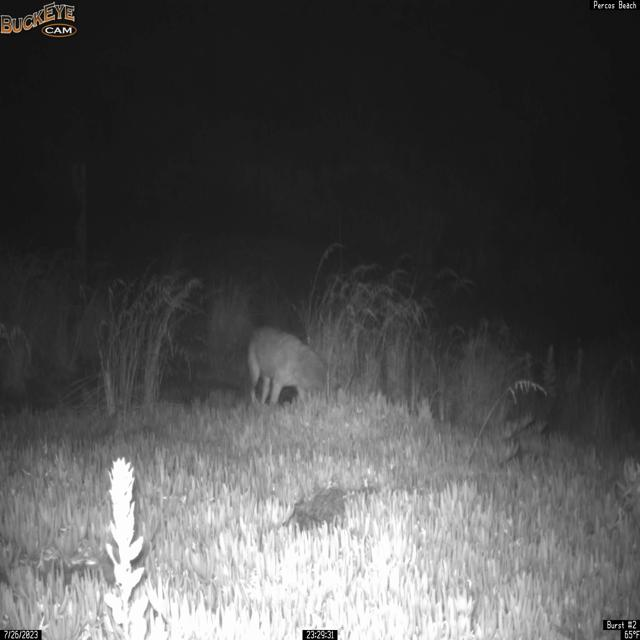coyote: (246, 325, 340, 408)
